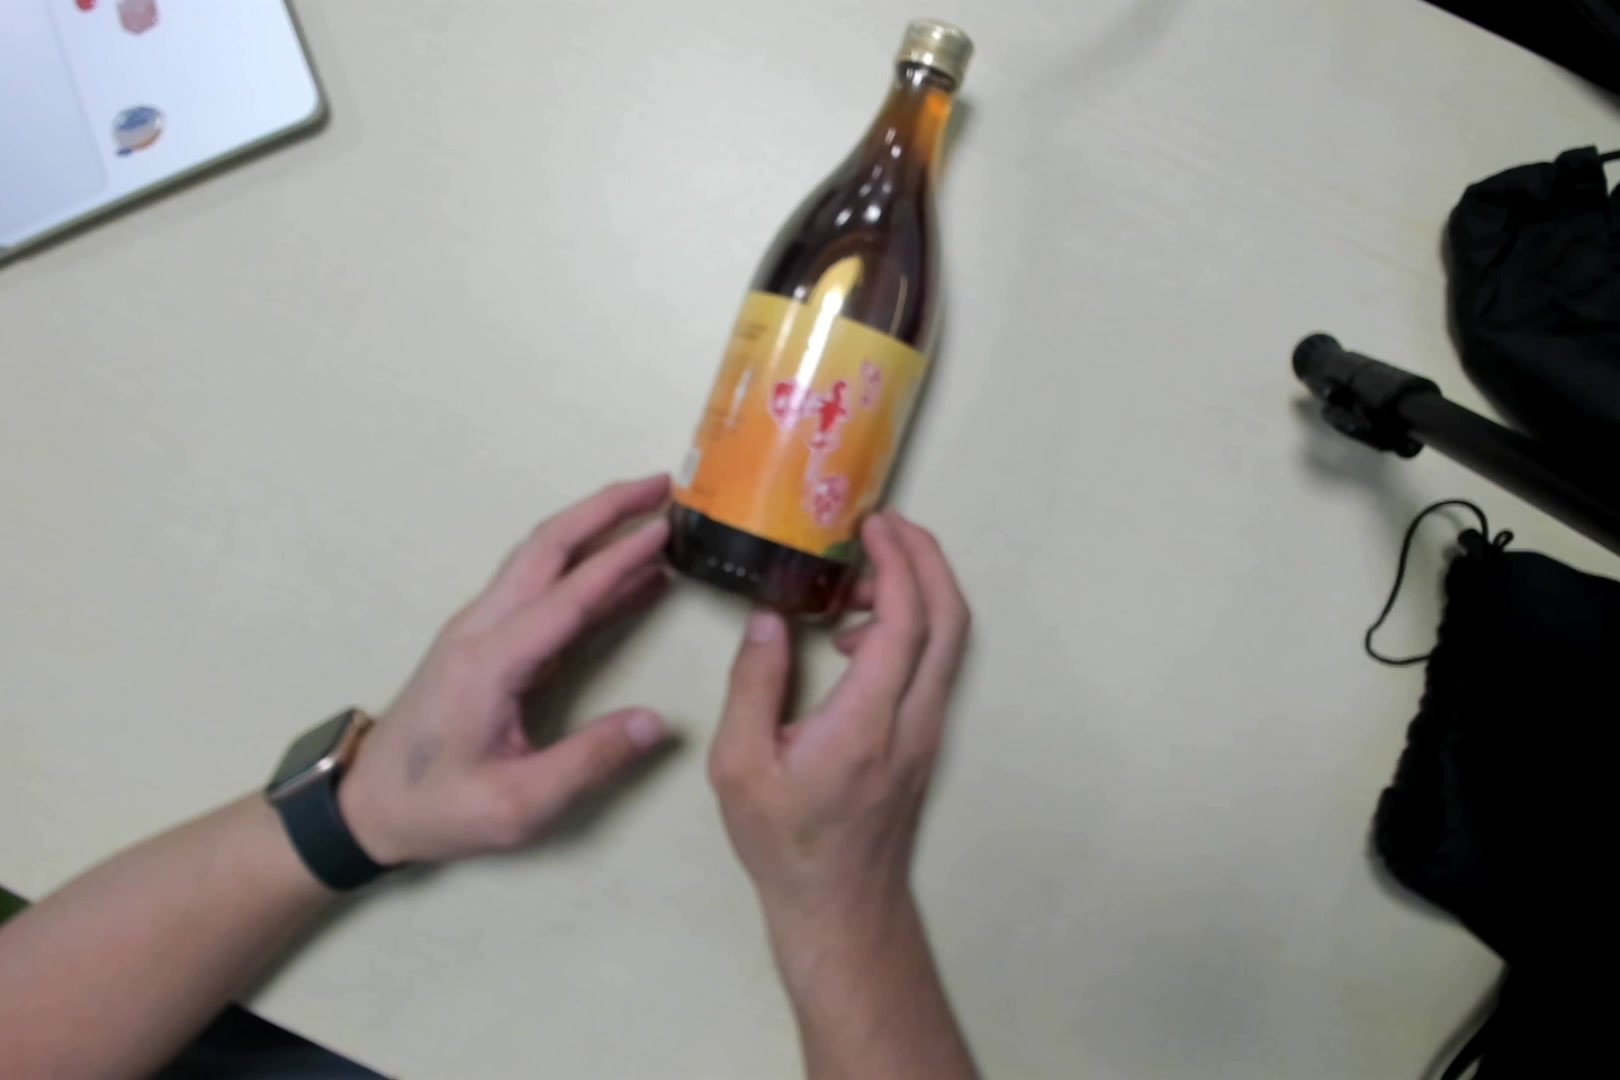OtherBakingNeeds_700-799g_Halal_NonHealthy: (653, 10, 982, 635)
